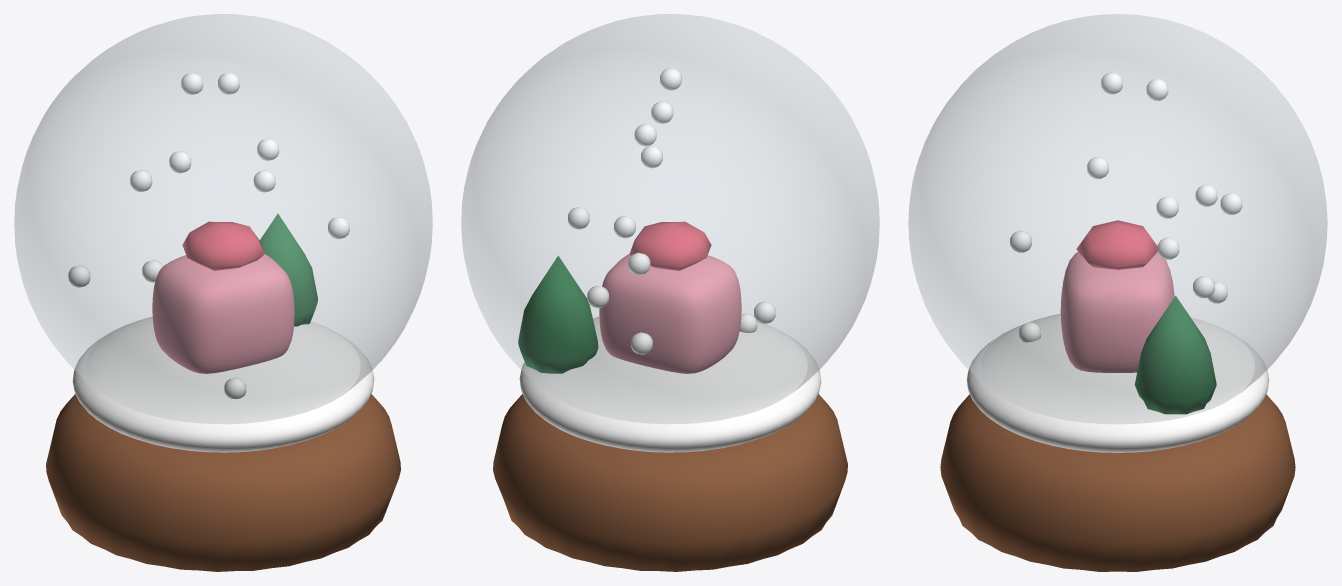
Rendered from deco_bola_nieve.glb.
3 views of the same model, side by side, from view 1: azimuth 30°, elevation 25°; view 2: azimuth 150°, elevation 25°; view 3: azimuth 270°, elevation 25° (orthographic).
Parts seen in each view (by area): view 1: bola nieve.001, base bola.001, nieve piso.001, casita.001, techo casita.001, pinito.001; view 2: bola nieve.001, base bola.001, nieve piso.001, casita.001, pinito.001, techo casita.001; view 3: bola nieve.001, base bola.001, nieve piso.001, casita.001, pinito.001, techo casita.001.
Boxes of the visible parts, box(x1,y1,x2,y2) form: bola nieve.001: box(14, 14, 432, 423); base bola.001: box(46, 394, 400, 571); nieve piso.001: box(72, 316, 374, 452); casita.001: box(152, 253, 294, 373); techo casita.001: box(182, 221, 264, 270); pinito.001: box(259, 213, 317, 326); bola nieve.001: box(461, 14, 879, 423); base bola.001: box(493, 394, 847, 571); nieve piso.001: box(519, 316, 821, 452); casita.001: box(599, 253, 741, 373); pinito.001: box(518, 255, 598, 373); techo casita.001: box(629, 221, 711, 270); bola nieve.001: box(908, 14, 1327, 423); base bola.001: box(940, 394, 1295, 571); nieve piso.001: box(966, 313, 1269, 452); casita.001: box(1060, 252, 1174, 372); pinito.001: box(1134, 296, 1216, 414); techo casita.001: box(1076, 220, 1157, 269).
Bounding box in the file's own units: 0.2177 × 0.2789 × 0.2177.
